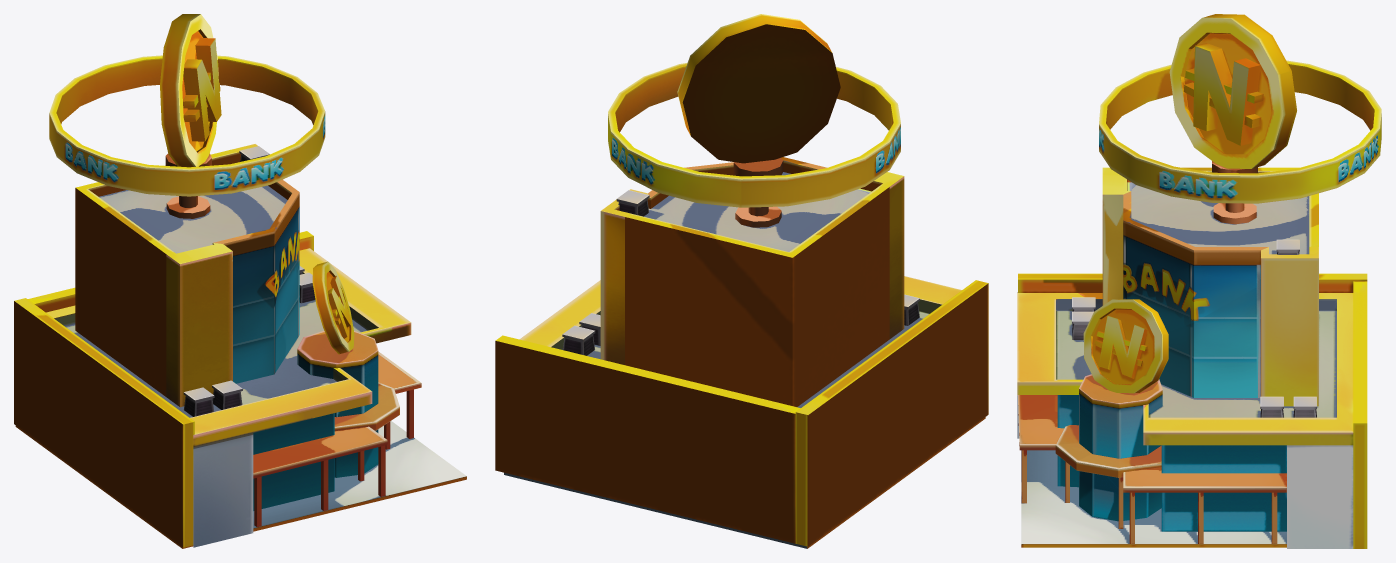
Rendered from Tx_Exterior_Business_Bank_20170713.fbx.
3 renders of one model, left to right at view 1: azimuth 30°, elevation 25°; view 2: azimuth 150°, elevation 25°; view 3: azimuth 270°, elevation 25°, orthographic. The views are drawn at different scales.
Visible parts, largest first — view 1: building, ring, coin, coin_animate; view 2: building, coin, ring; view 3: building, coin, ring, coin_animate.
Boxes of the visible parts, x1=… form: building: x1=14, y1=144, x2=466, y2=548; ring: x1=49, y1=55, x2=325, y2=196; coin: x1=160, y1=14, x2=221, y2=167; coin_animate: x1=312, y1=261, x2=354, y2=354; building: x1=495, y1=157, x2=988, y2=548; coin: x1=677, y1=14, x2=840, y2=163; ring: x1=608, y1=62, x2=900, y2=207; building: x1=1017, y1=161, x2=1367, y2=548; coin: x1=1169, y1=14, x2=1296, y2=168; ring: x1=1099, y1=60, x2=1381, y2=203; coin_animate: x1=1083, y1=299, x2=1168, y2=393.
Size of the model in its own units: 12.97 by 17.64 by 13.23.
